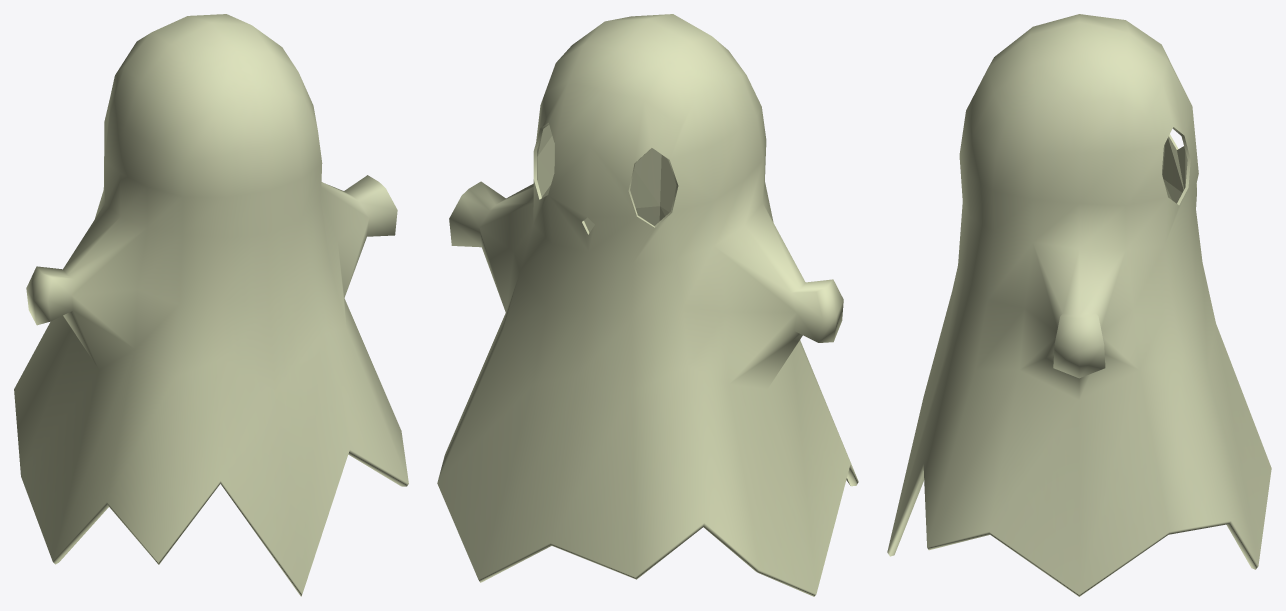
The model's file is Fantasminha_02_Base.fbx.
3 views of the same model, side by side, from view 1: azimuth 30°, elevation 25°; view 2: azimuth 150°, elevation 25°; view 3: azimuth 270°, elevation 25° (orthographic). The views are drawn at different scales.
Parts seen in each view (by area): view 1: Fantasminha_02; view 2: Fantasminha_02; view 3: Fantasminha_02.
Boxes of the visible parts, x1,y1,x2,y2 form: Fantasminha_02: (14,14,408,596); Fantasminha_02: (437,14,858,596); Fantasminha_02: (887,14,1271,596).
Size of the model in its own units: 43.66 by 59.65 by 38.87.
